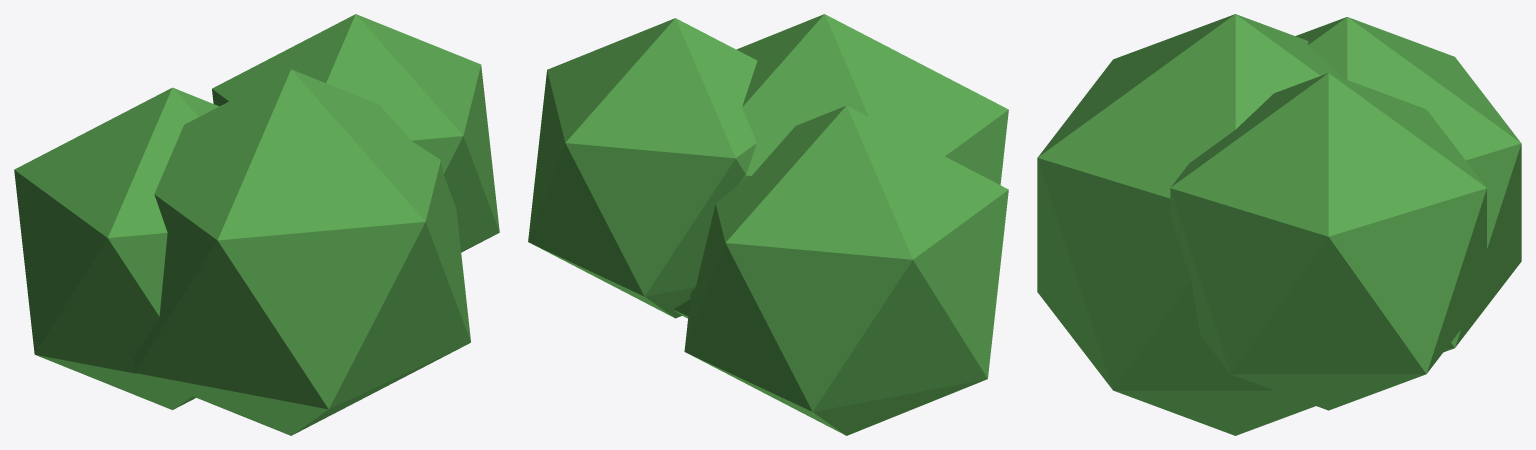
The model's file is bush.glb.
3 renders of one model, left to right at view 1: azimuth 30°, elevation 25°; view 2: azimuth 150°, elevation 25°; view 3: azimuth 270°, elevation 25°, orthographic. The views are drawn at different scales.
Parts seen in each view (by area): view 1: Bush_part_0, Bush_part_2, Bush_part_1; view 2: Bush_part_2, Bush_part_1, Bush_part_0; view 3: Bush_part_1, Bush_part_0, Bush_part_2.
Boxes of the visible parts, <box> form: Bush_part_0: <box>133,69,470,435</box>; Bush_part_2: <box>14,87,218,409</box>; Bush_part_1: <box>212,14,499,252</box>; Bush_part_2: <box>684,105,1008,435</box>; Bush_part_1: <box>528,18,757,318</box>; Bush_part_0: <box>673,14,1008,318</box>; Bush_part_1: <box>1170,73,1486,410</box>; Bush_part_0: <box>1037,14,1343,435</box>; Bush_part_2: <box>1295,17,1521,351</box>.
Size of the model in its own units: 0.6257 by 0.5 by 0.5198.
